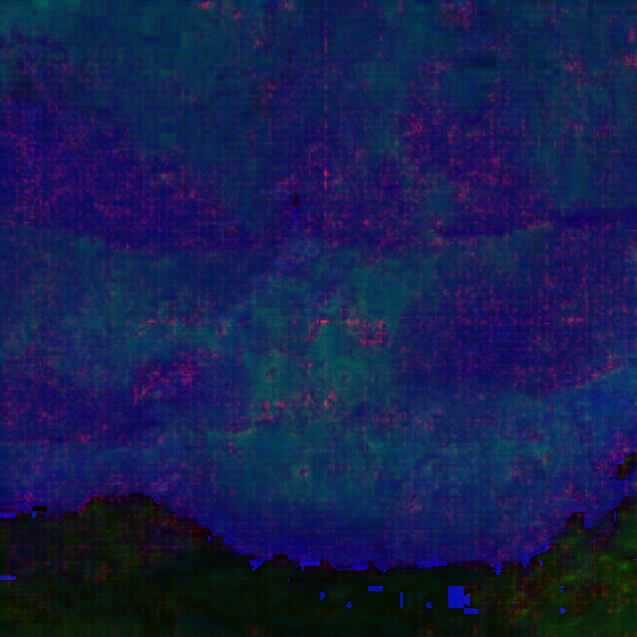rip_current: (170, 126, 458, 474)
